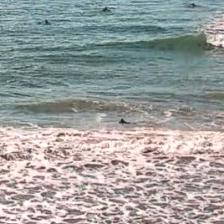surfer: (118, 118, 130, 125), (44, 19, 52, 26), (102, 6, 111, 12), (190, 2, 198, 8), (8, 0, 14, 2)
